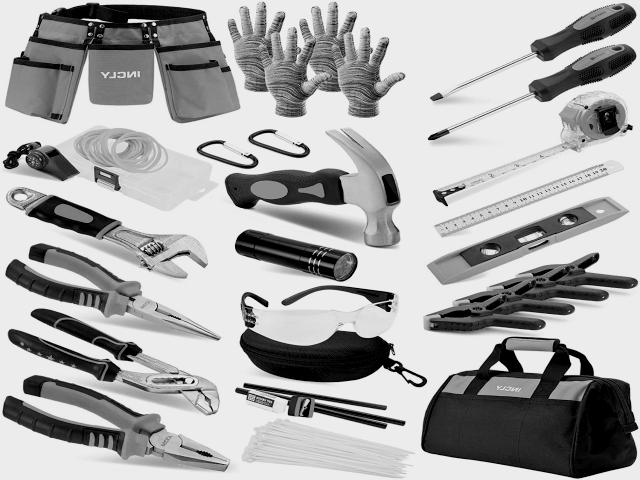Adjustable spanner: (6, 188, 208, 278)
Gas wrench: (9, 309, 219, 414)
Hammer: (225, 128, 400, 246)
Needle-nose pliers: (6, 244, 220, 340)
Pliers: (2, 376, 230, 471)
Screwdriver: (430, 4, 636, 100), (429, 45, 636, 140)
Tape measure: (434, 91, 632, 206)
